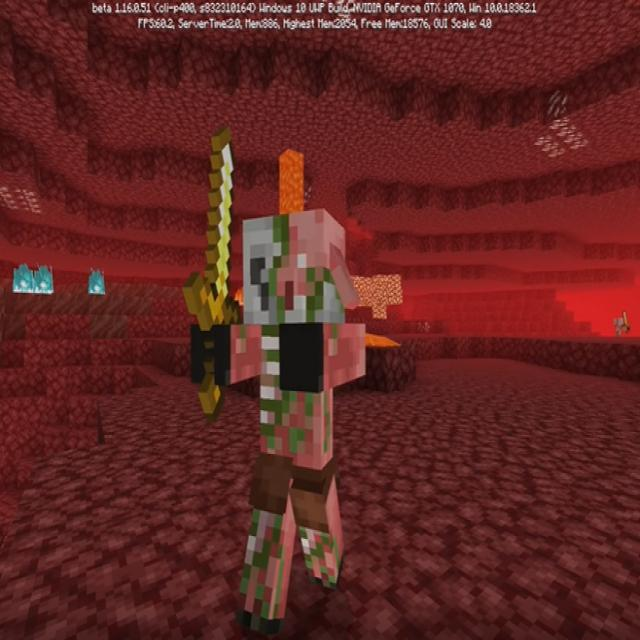Zombified Piglin: (182, 126, 368, 636)
